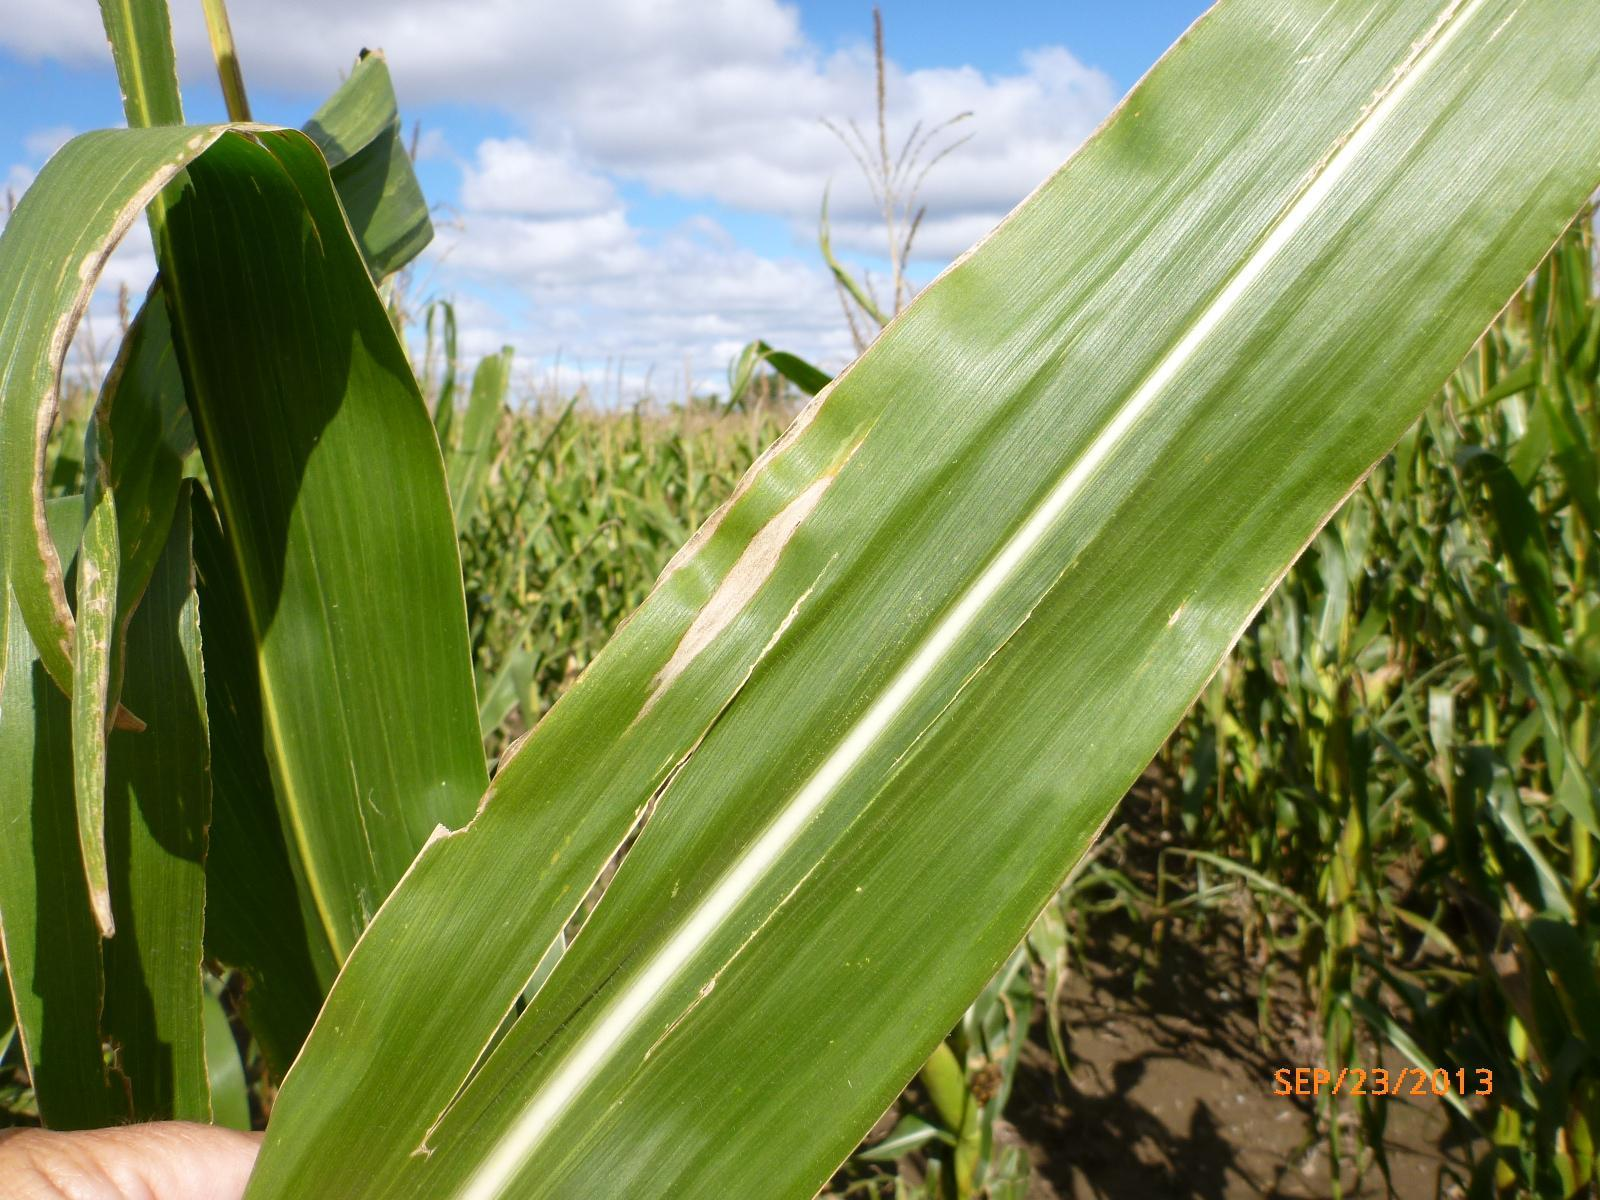Corn_Blight: (2, 117, 346, 966), (497, 392, 870, 698)
